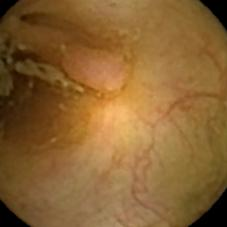Polyp: (60, 39, 138, 96)
